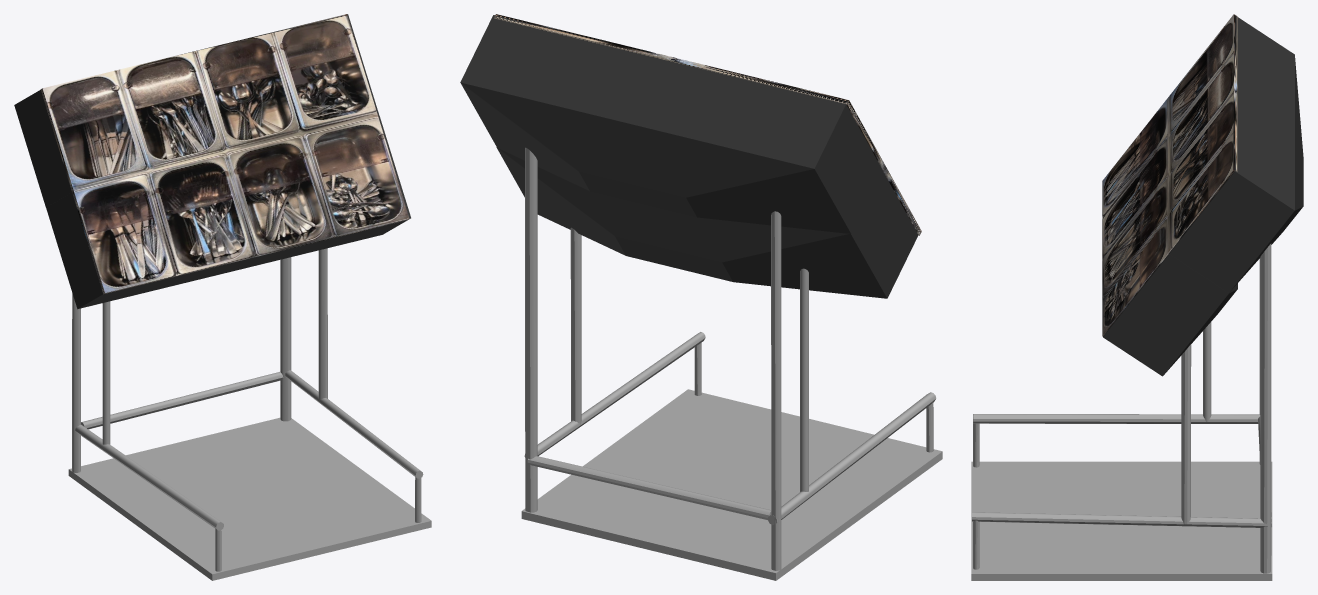
The model's file is Besteck-1.glb.
3 renders of one model, left to right at view 1: azimuth 30°, elevation 25°; view 2: azimuth 150°, elevation 25°; view 3: azimuth 270°, elevation 25°, orthographic. The views are drawn at different scales.
Visible parts, largest first — view 1: Besteck 1; view 2: Besteck 1; view 3: Besteck 1.
Part boxes in pixels (x1=…): Besteck 1: x1=14, y1=14, x2=431, y2=580; Besteck 1: x1=460, y1=14, x2=942, y2=580; Besteck 1: x1=971, y1=14, x2=1303, y2=580.
Bounding box in the file's own units: 3.44 × 4.43 × 3.09.
Materials: 13 (1 with a texture image).
